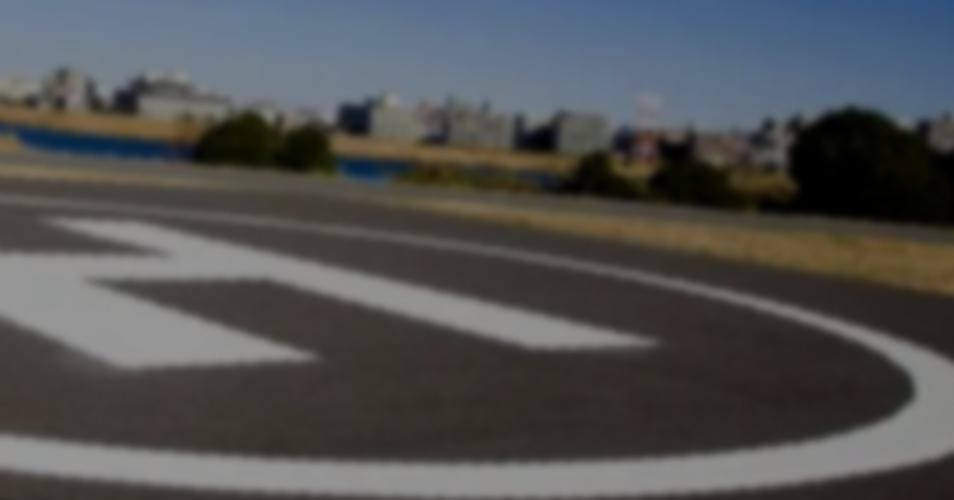Apron: (45, 196, 881, 467)
